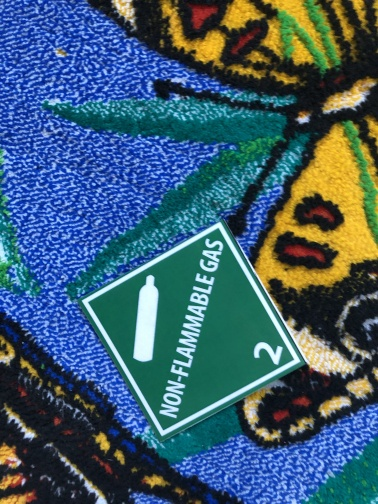NonFlammableGas: (78, 217, 306, 443)
